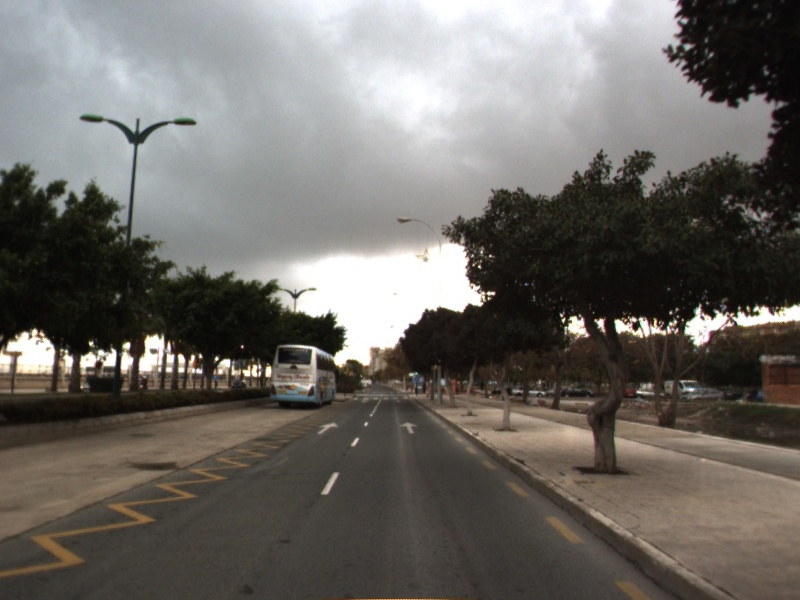STRAIGHT: (315, 420, 341, 436), (397, 420, 421, 436)
